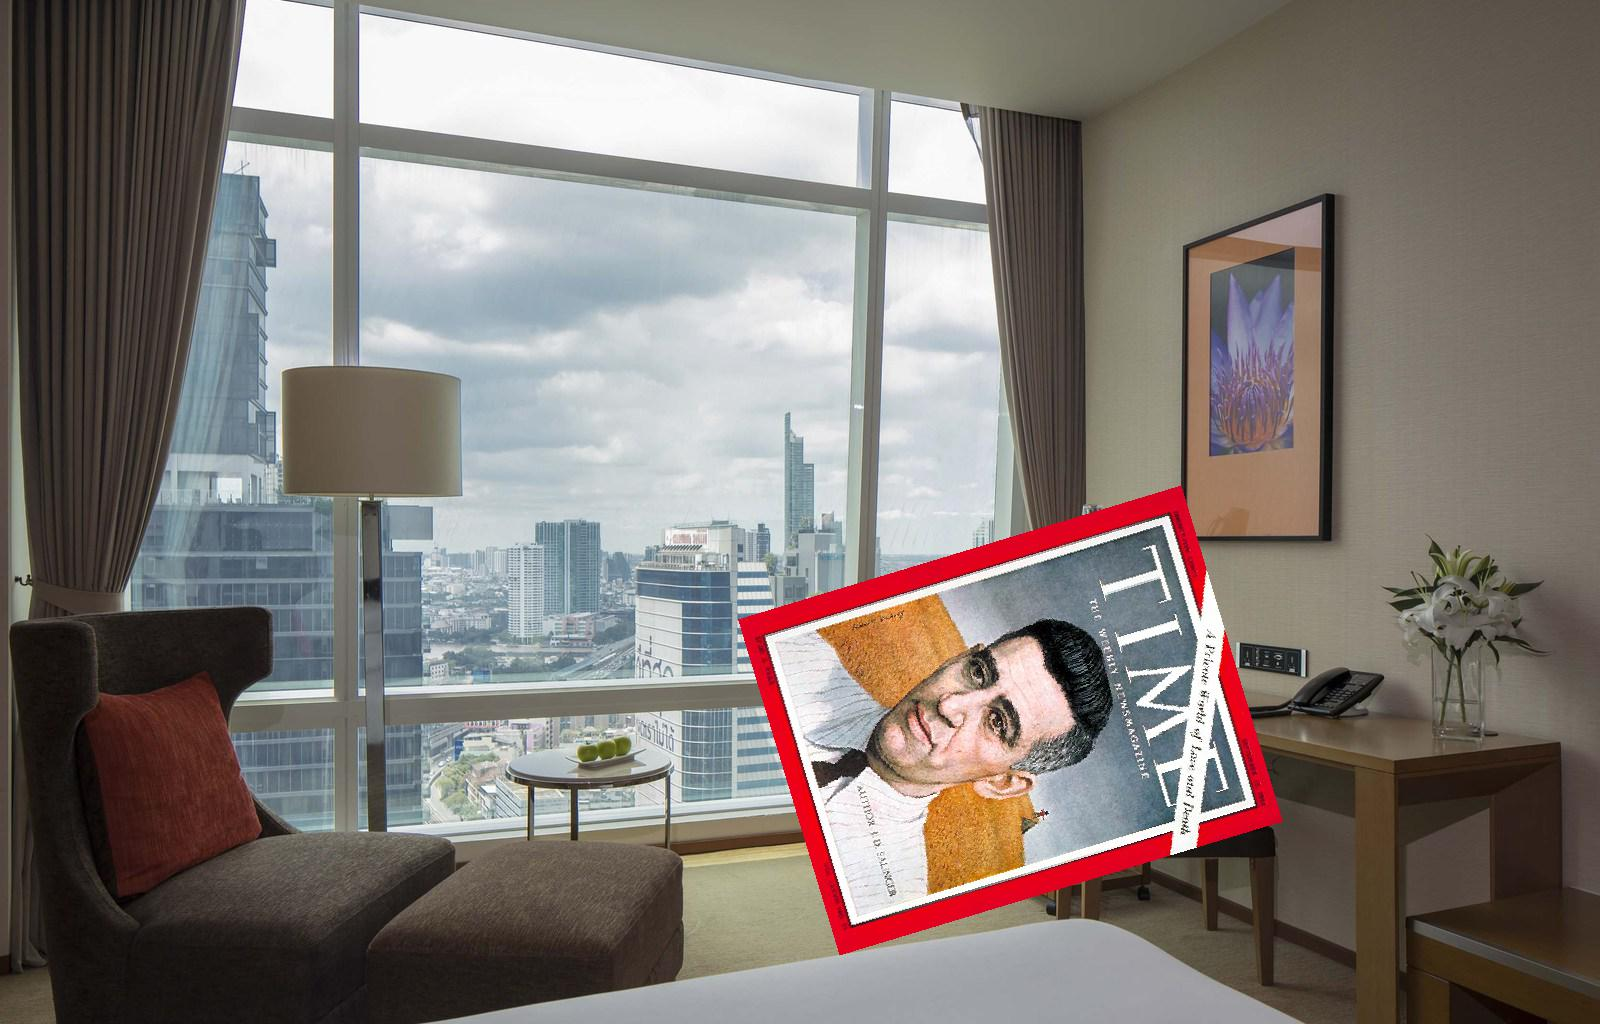times: (734, 483, 1287, 956)
